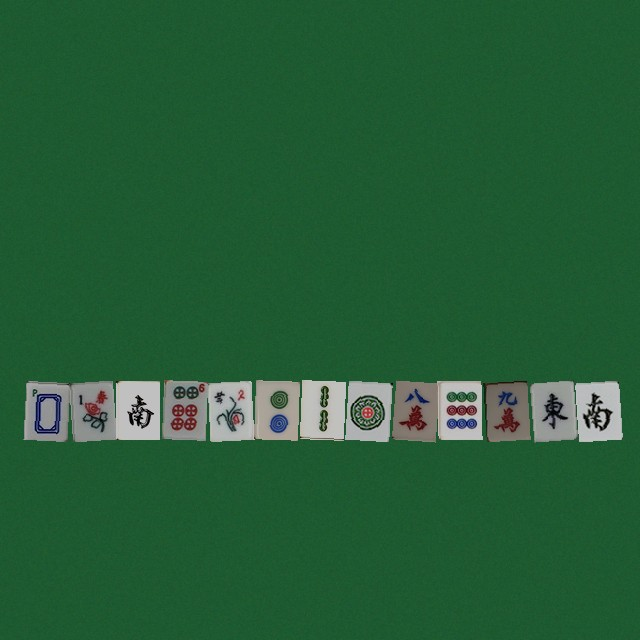tile: (23, 380, 67, 439), (69, 380, 113, 439), (115, 380, 159, 439), (161, 380, 205, 439), (207, 380, 251, 439), (253, 380, 297, 439), (299, 380, 343, 439), (345, 380, 389, 439), (391, 380, 435, 439), (437, 380, 481, 439), (483, 380, 527, 439), (529, 380, 573, 439), (575, 380, 619, 439)
